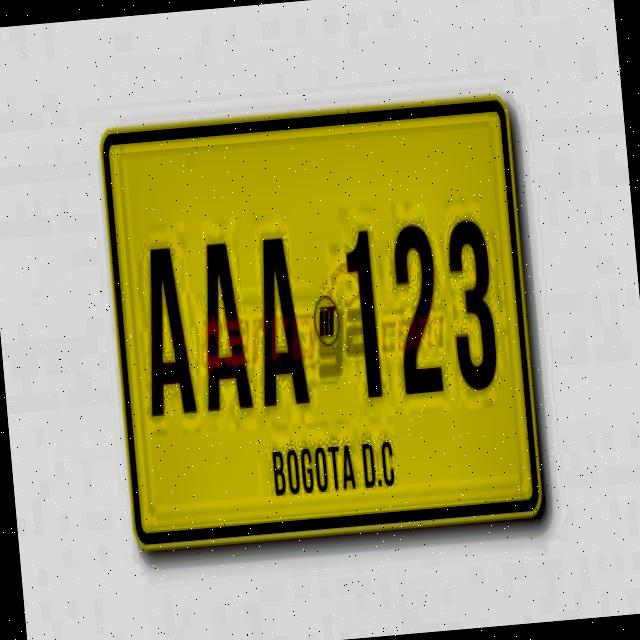1: (332, 215, 396, 412)
2: (384, 214, 452, 408)
3: (438, 206, 513, 402)
A: (125, 230, 202, 433), (244, 224, 314, 421), (190, 225, 258, 426)
